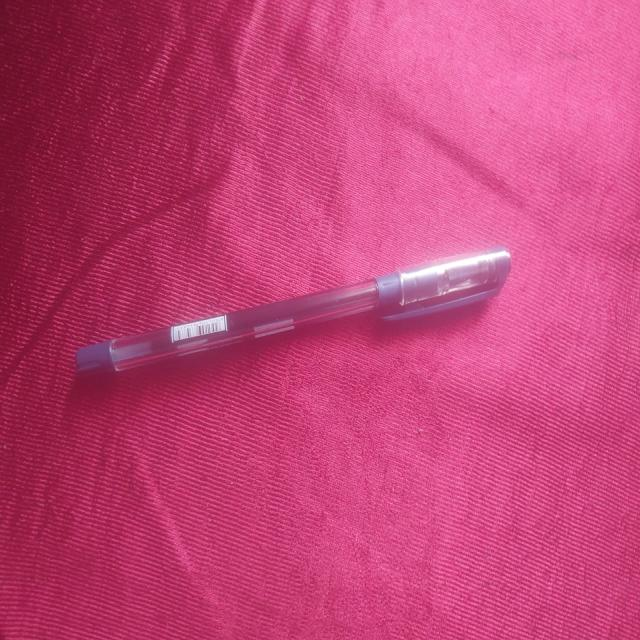pen: (77, 230, 514, 390)
